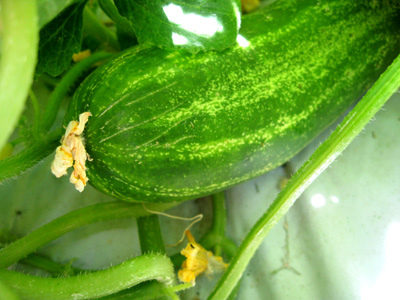cucumber: (49, 1, 399, 206)
